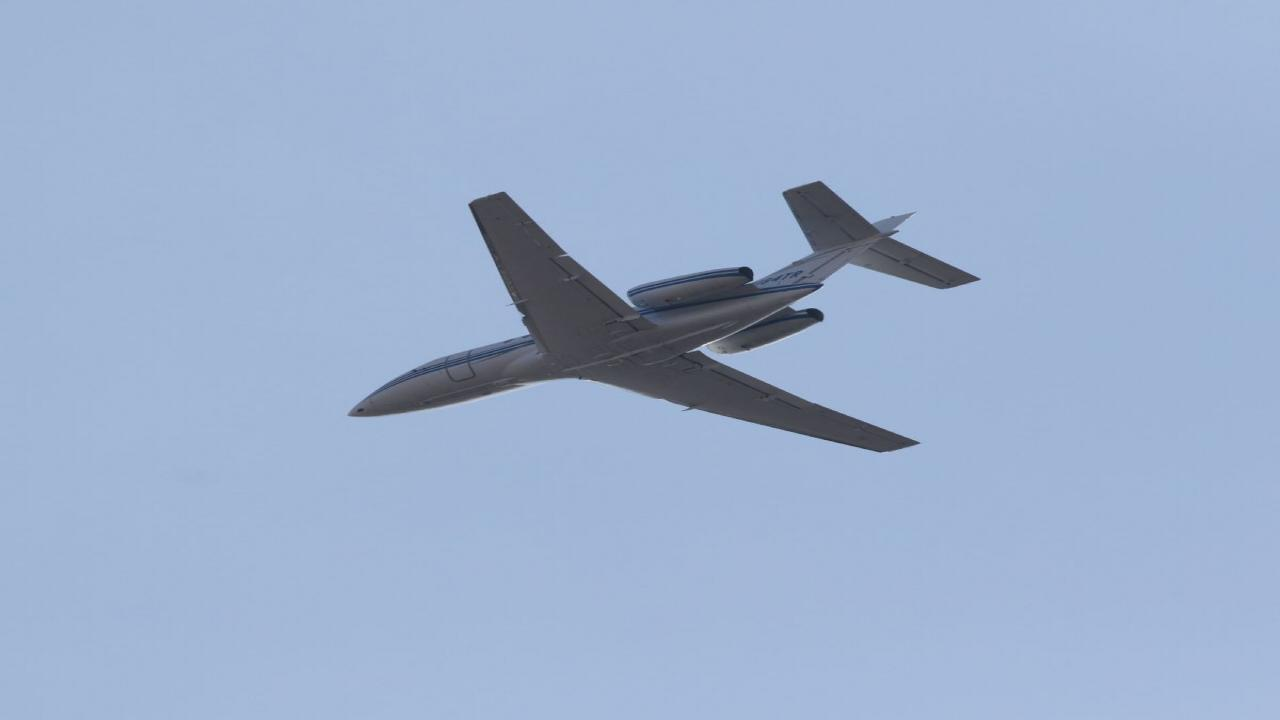Airplane: (339, 162, 1003, 466)
